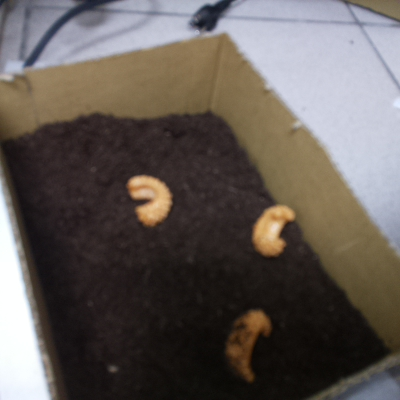eggs: (223, 307, 276, 382), (120, 168, 177, 230), (243, 201, 295, 259)
